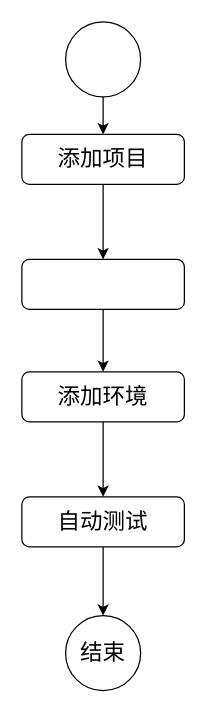
This 206x713 diagram has some shape labels left out. Each missing label, with the centre of its shape:
"开始" goes at (x=102, y=59).
"添加接口用例" goes at (x=102, y=283).
